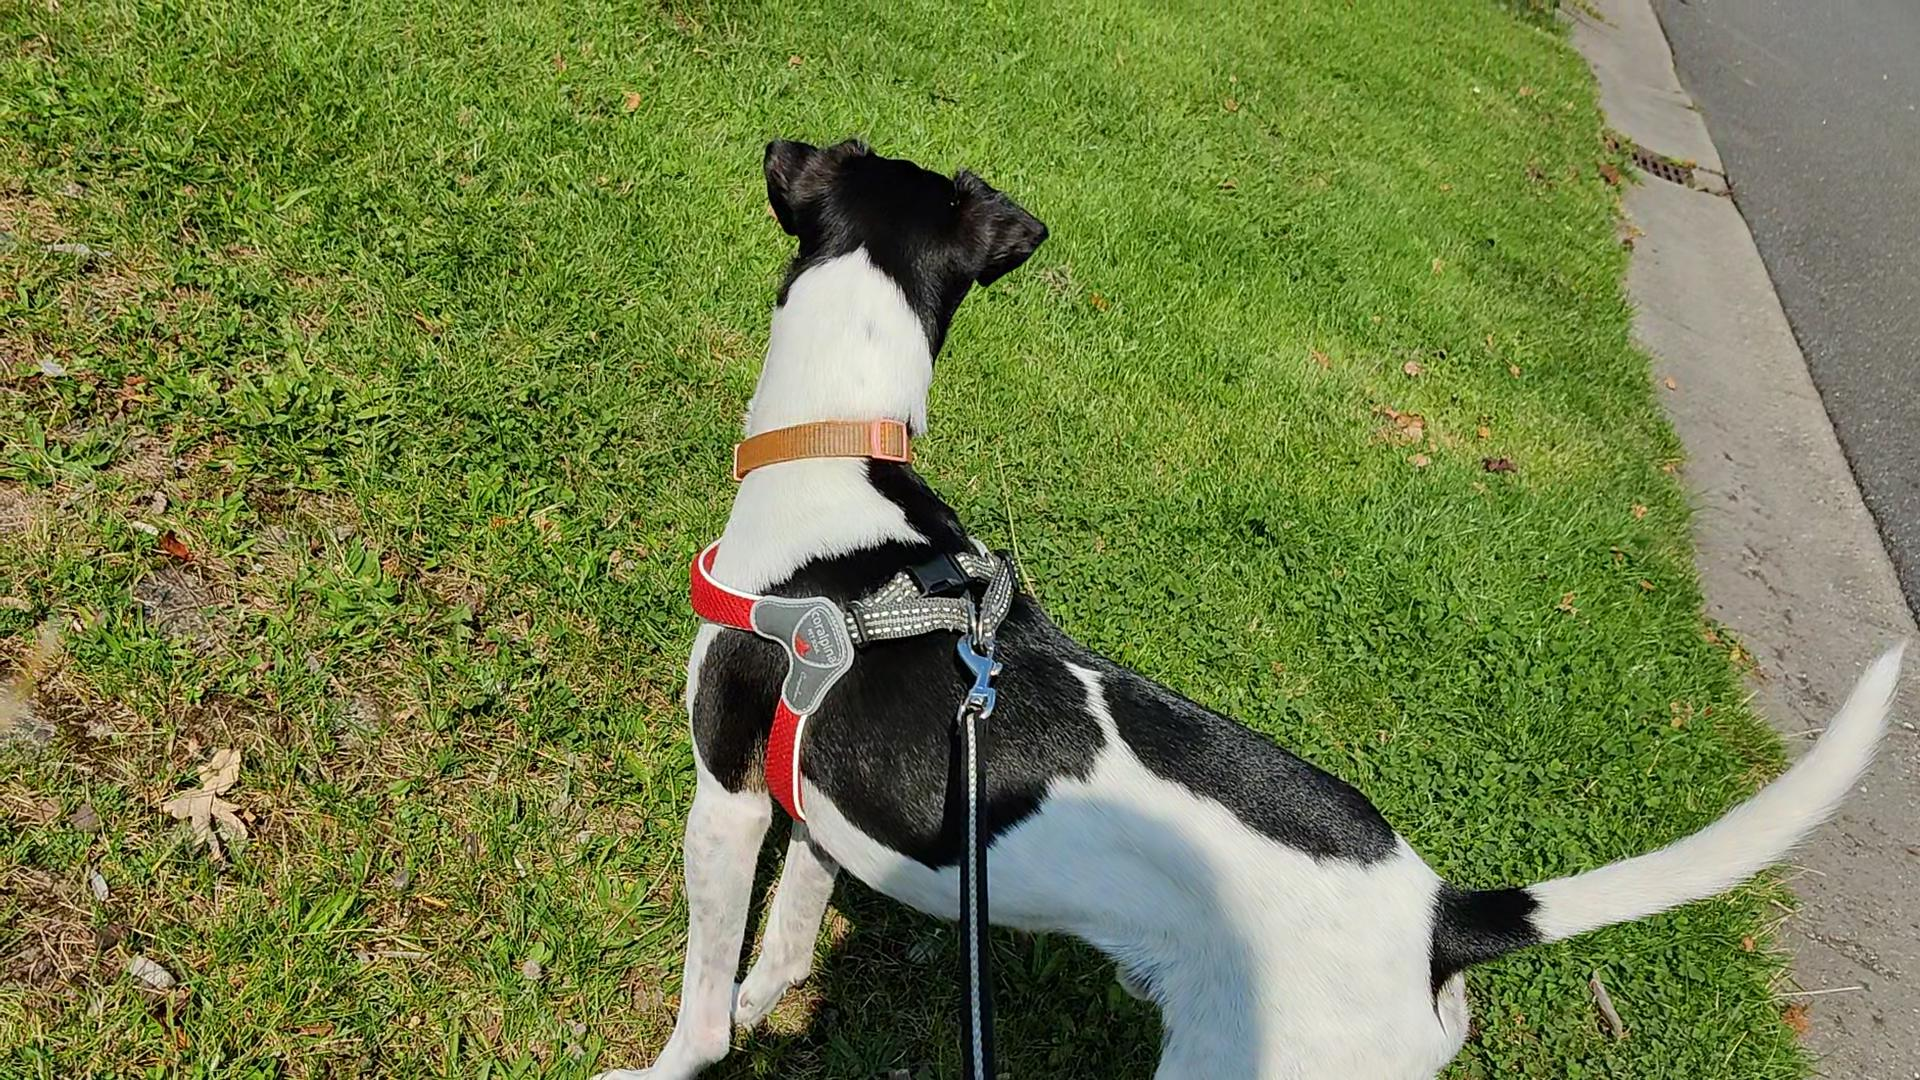Dog: (655, 115, 1909, 1079)
